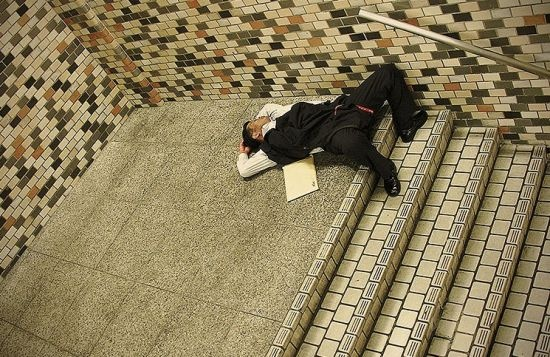falling: (232, 52, 436, 199)
